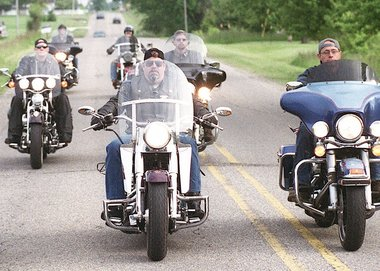helmet: (134, 44, 198, 210), (315, 28, 372, 157), (21, 30, 56, 128)
